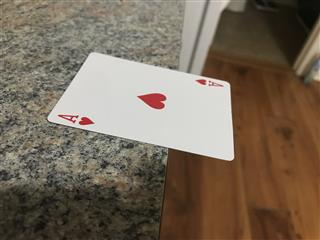AceOfHearts: (46, 51, 235, 161)
